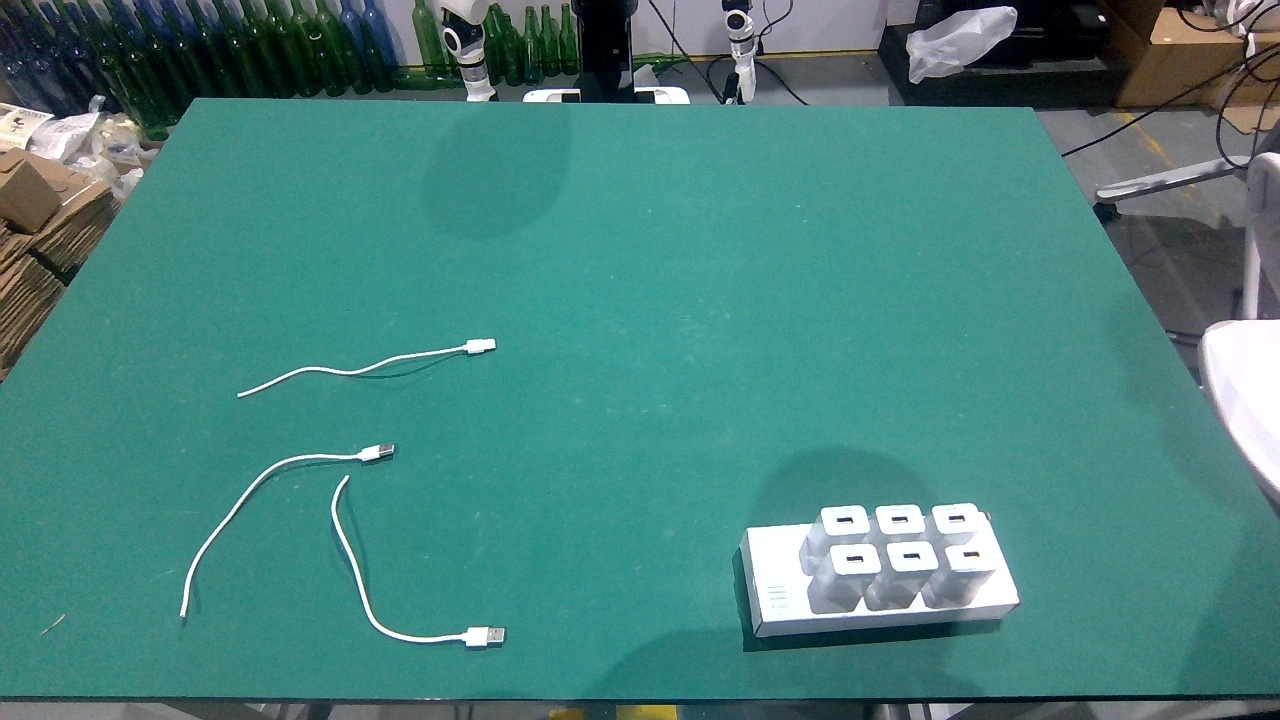usb_a_plug: (350, 441, 396, 466), (453, 626, 504, 647), (454, 339, 498, 354)
